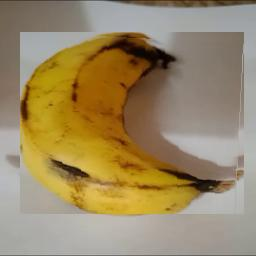Banana Semifresh: (21, 33, 245, 215)
